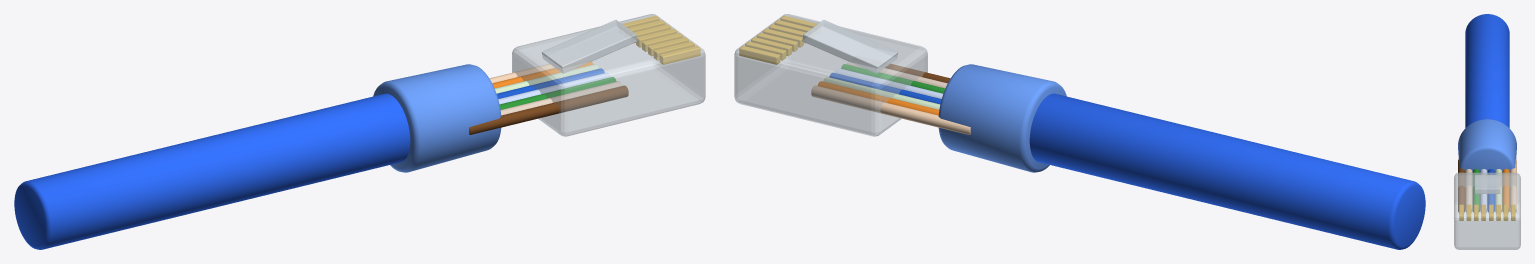
3 renders of one model, left to right at view 1: azimuth 30°, elevation 25°; view 2: azimuth 150°, elevation 25°; view 3: azimuth 270°, elevation 25°, orthographic. The views are drawn at different scales.
Visible parts, largest first — view 1: jacket, plug, boot, latch, wire7, wire6, wire5, wire4, wire3, wire2, pin7, wire1 (+1 smaller); view 2: jacket, plug, boot, latch, wire0, wire1, wire2, wire3, wire4, wire5, pin0, wire6 (+1 smaller); view 3: plug, jacket, boot, latch, wire0, wire7, wire1, wire6, wire2, wire5, wire4, wire3 (+8 smaller).
Boxes of the visible parts, x1,y1,x2,y2 form: jacket: [14, 93, 410, 249]; plug: [512, 14, 705, 136]; boot: [373, 64, 501, 172]; latch: [541, 20, 637, 73]; wire7: [469, 85, 628, 134]; wire6: [500, 81, 622, 115]; wire5: [499, 77, 616, 109]; wire4: [498, 72, 610, 104]; wire3: [497, 68, 604, 98]; wire2: [494, 64, 598, 93]; pin7: [659, 46, 700, 64]; wire1: [492, 61, 592, 88]; jacket: [1029, 93, 1425, 249]; plug: [734, 14, 927, 136]; boot: [938, 64, 1066, 172]; latch: [802, 20, 898, 73]; wire0: [811, 85, 970, 134]; wire1: [817, 81, 939, 115]; wire2: [823, 77, 940, 109]; wire3: [829, 72, 941, 104]; wire4: [835, 68, 942, 98]; wire5: [841, 64, 945, 93]; pin0: [739, 46, 780, 64]; wire6: [847, 61, 947, 88]; plug: [1454, 172, 1520, 249]; jacket: [1465, 14, 1509, 127]; boot: [1458, 119, 1516, 171]; latch: [1474, 175, 1500, 193]; wire0: [1509, 159, 1516, 212]; wire7: [1458, 159, 1465, 212]; wire1: [1502, 169, 1509, 212]; wire6: [1465, 169, 1472, 212]; wire2: [1495, 169, 1502, 212]; wire5: [1472, 169, 1479, 212]; wire4: [1480, 169, 1487, 212]; wire3: [1487, 169, 1494, 212].
Size of the model in its own units: 5.12 by 0.6509 by 0.72.
